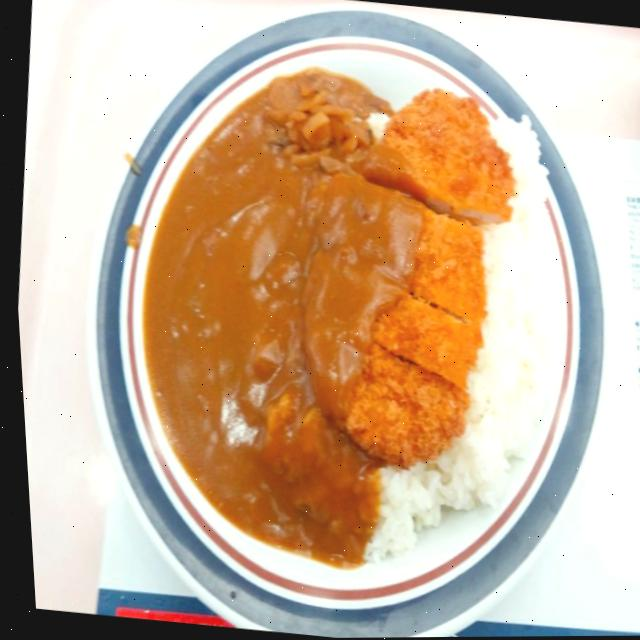猪肉菜式: (64, 0, 640, 640)
